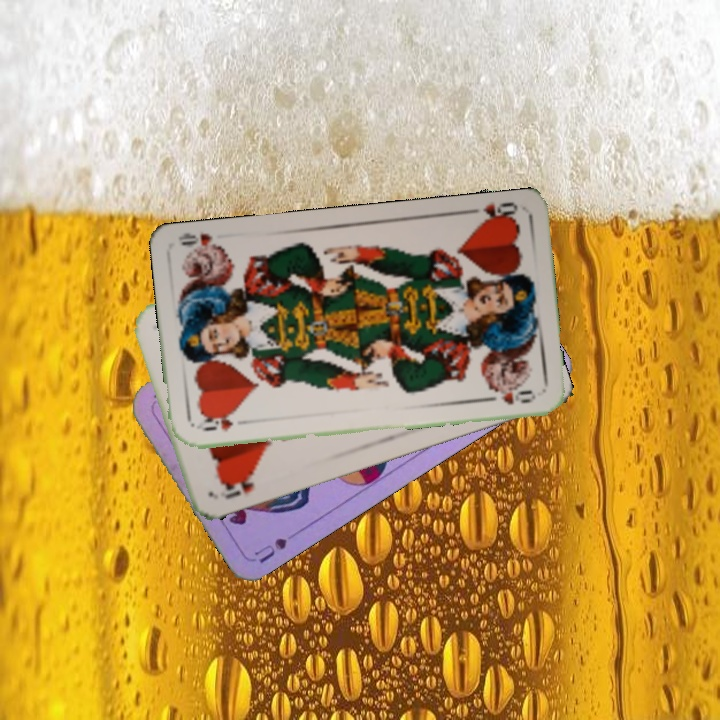HO: (463, 198, 520, 228), (216, 470, 258, 502), (200, 411, 252, 434)
SU: (250, 525, 305, 566)
